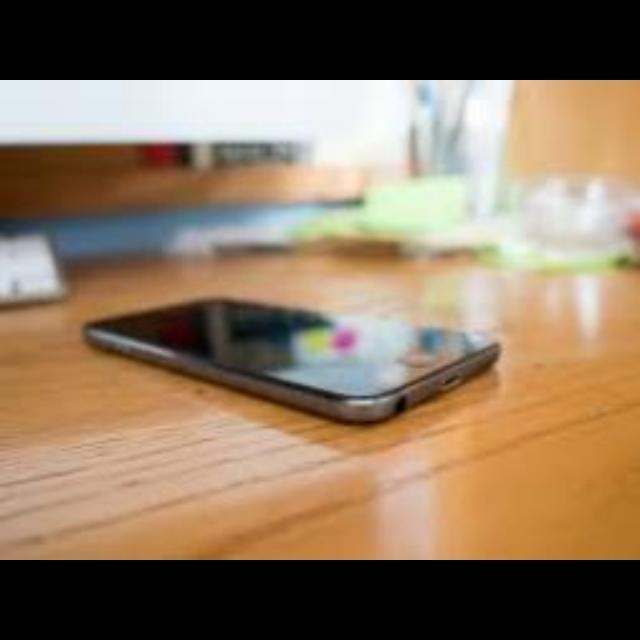PhoneUse: (87, 296, 506, 426)
